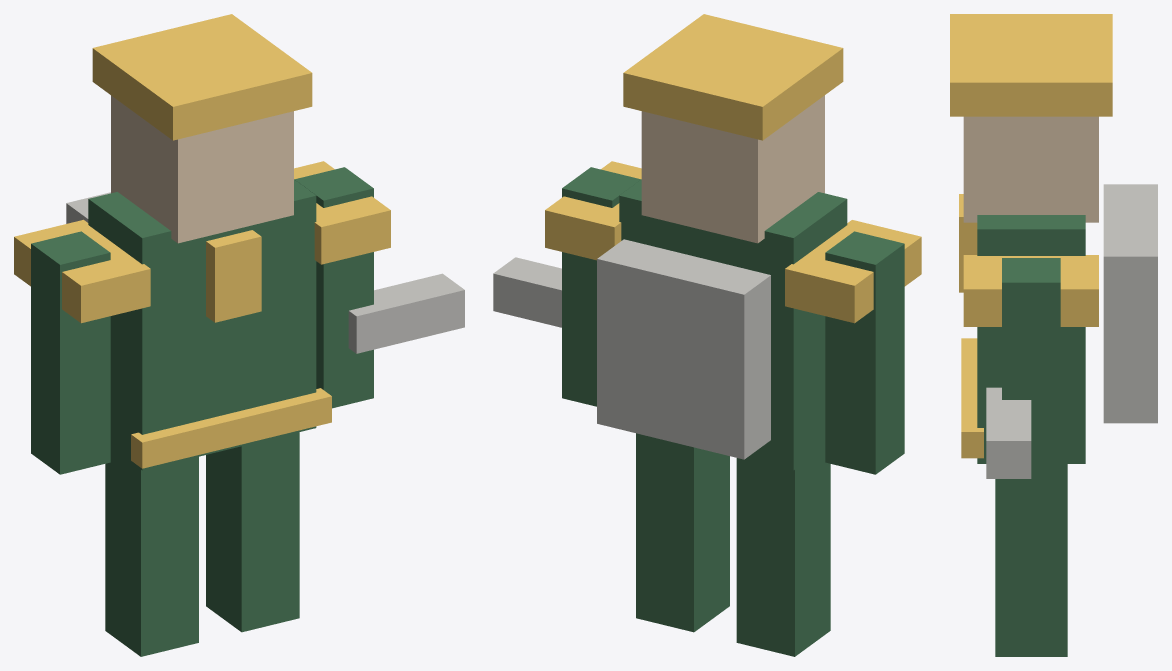
File: 13_zerin_ironwake_specialist_near.glb
3 views of the same model, side by side, from view 1: azimuth 30°, elevation 25°; view 2: azimuth 150°, elevation 25°; view 3: azimuth 270°, elevation 25° (orthographic).
Visible parts, largest first — view 1: Zerin Ironwake, Specialist near; view 2: Zerin Ironwake, Specialist near; view 3: Zerin Ironwake, Specialist near.
Boxes of the visible parts, x1,y1,x2,y2 form: Zerin Ironwake, Specialist near: [14, 14, 464, 656]; Zerin Ironwake, Specialist near: [493, 14, 921, 656]; Zerin Ironwake, Specialist near: [950, 14, 1157, 656].
Size of the model in its own units: 1.08 by 1.46 by 0.4831.
